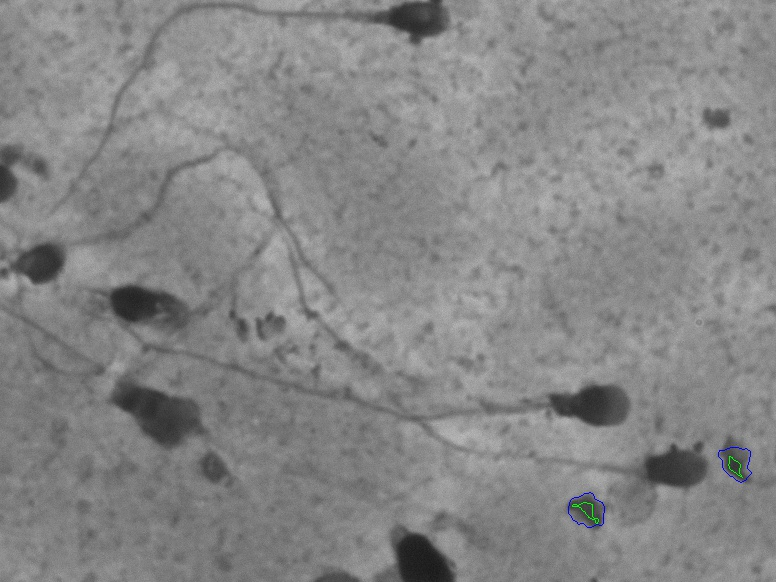Abnormal: (227, 304, 639, 450), (452, 425, 736, 538), (104, 252, 194, 369), (5, 214, 76, 317)
